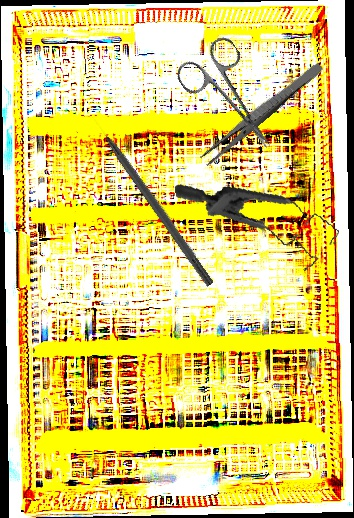Dressing Forceps: (198, 58, 325, 168)
Hook Surgical: (88, 112, 217, 288)
Iris Scissors: (171, 33, 294, 167)
Speculum: (173, 155, 346, 293)
